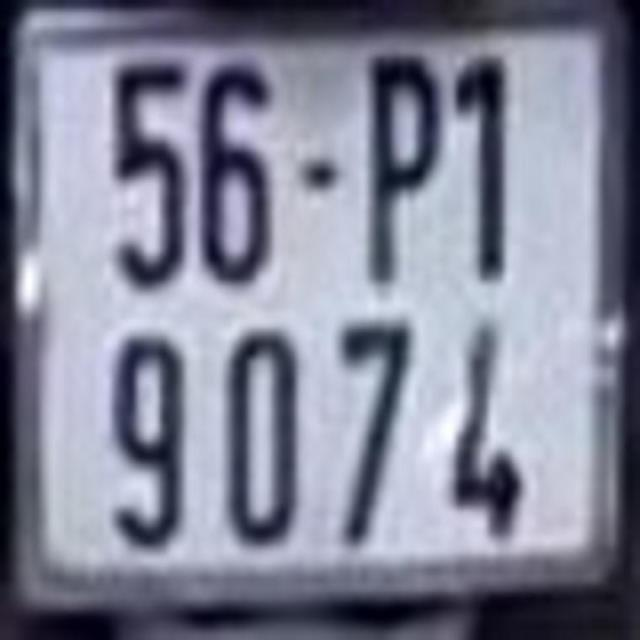0: (219, 327, 298, 547)
1: (446, 48, 528, 290)
4: (447, 318, 525, 550)
5: (107, 55, 187, 292)
6: (197, 56, 270, 291)
7: (331, 310, 410, 548)
9: (107, 330, 189, 552)
P: (360, 52, 440, 284)
